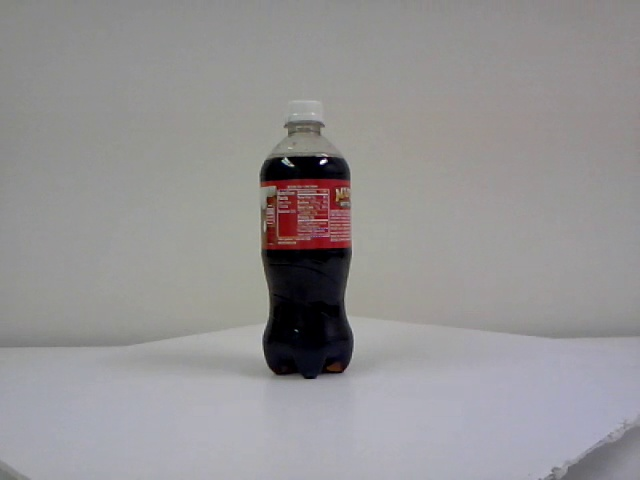botolplastik: (261, 100, 355, 376)
